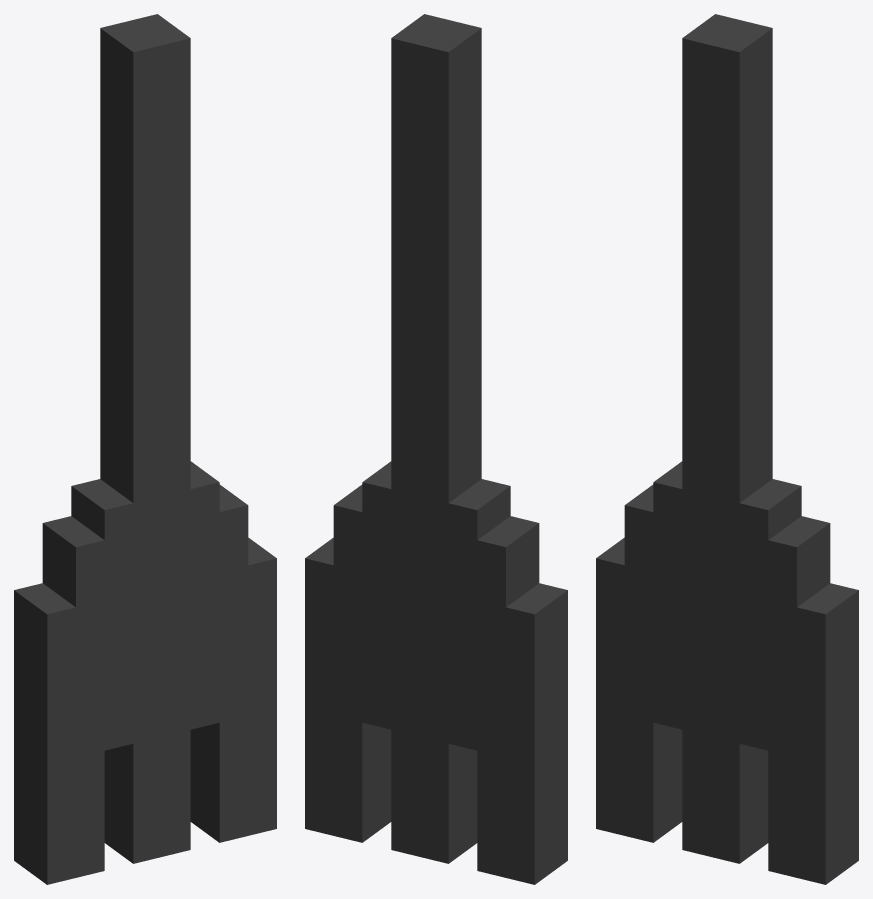
The model's file is Fork.obj.
The picture shows the model from 3 angles, left to right: view 1: azimuth 30°, elevation 25°; view 2: azimuth 150°, elevation 25°; view 3: azimuth 330°, elevation 25°; orthographic projection.
Bounding box in the file's own units: 0.8 × 2.7 × 0.2.
Materials: 1 (1 with a texture image).
